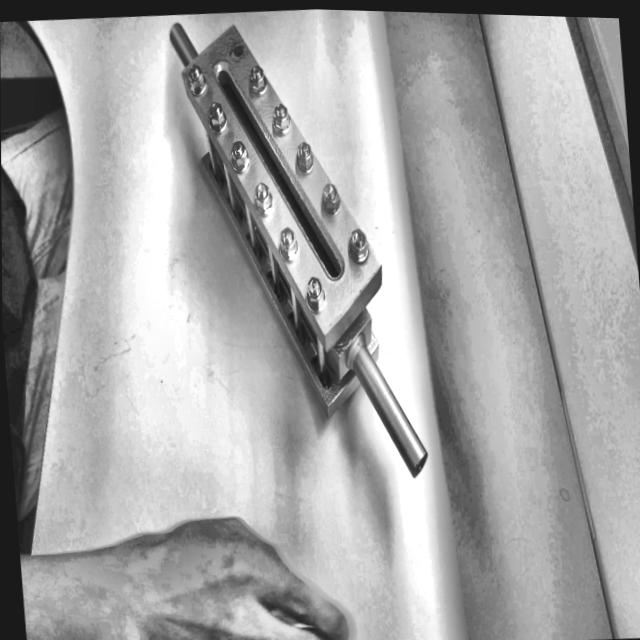ShuiWeiQi_11: (145, 5, 440, 495)
